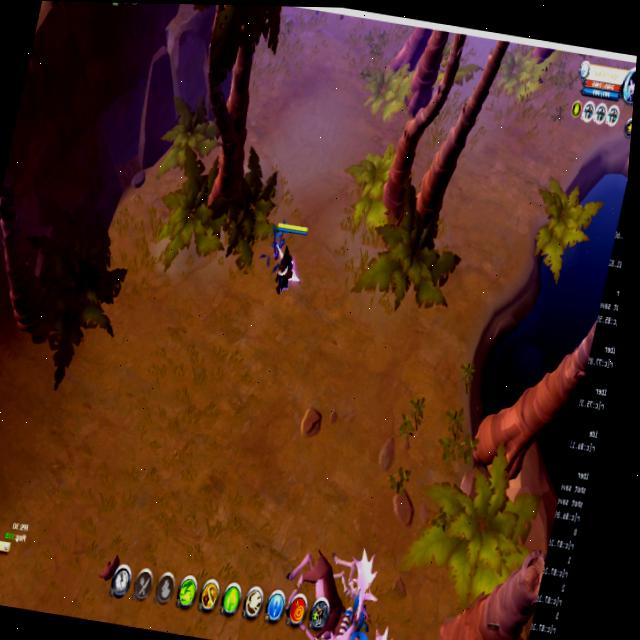mob: (273, 542, 377, 640)
red: (261, 218, 312, 297)
